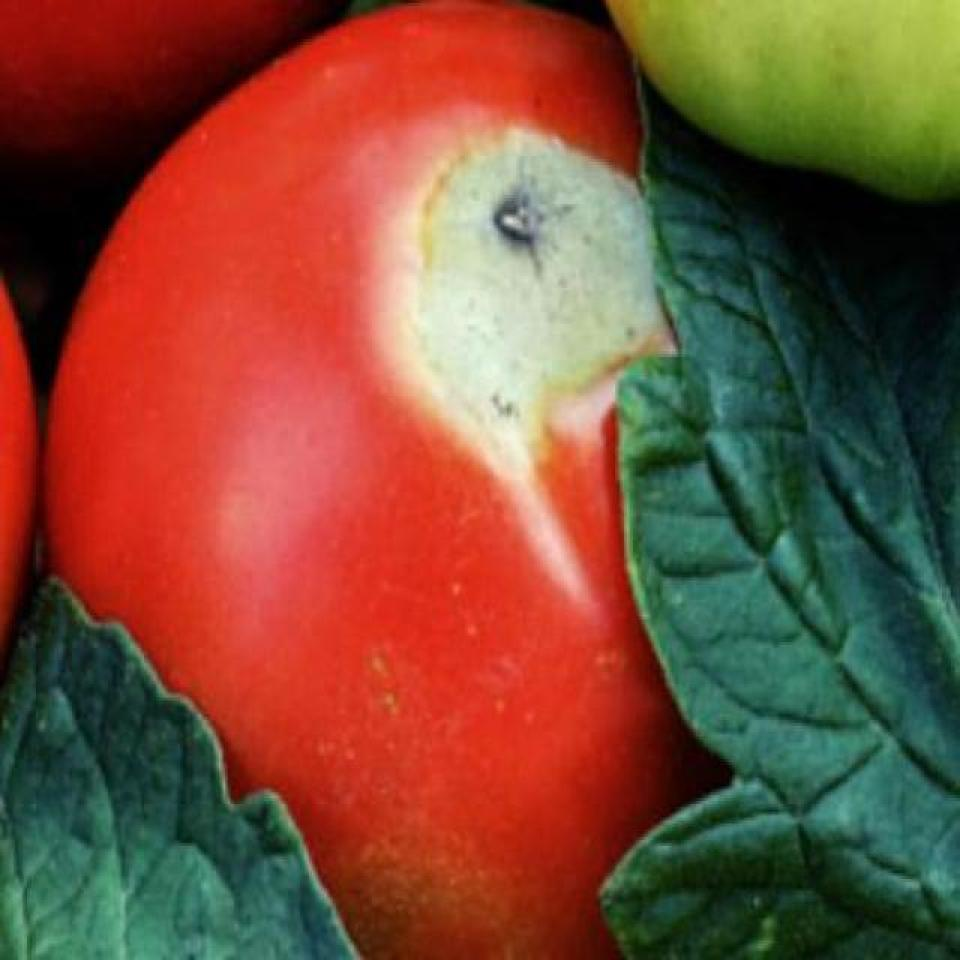Sunscald: (394, 95, 672, 433)
